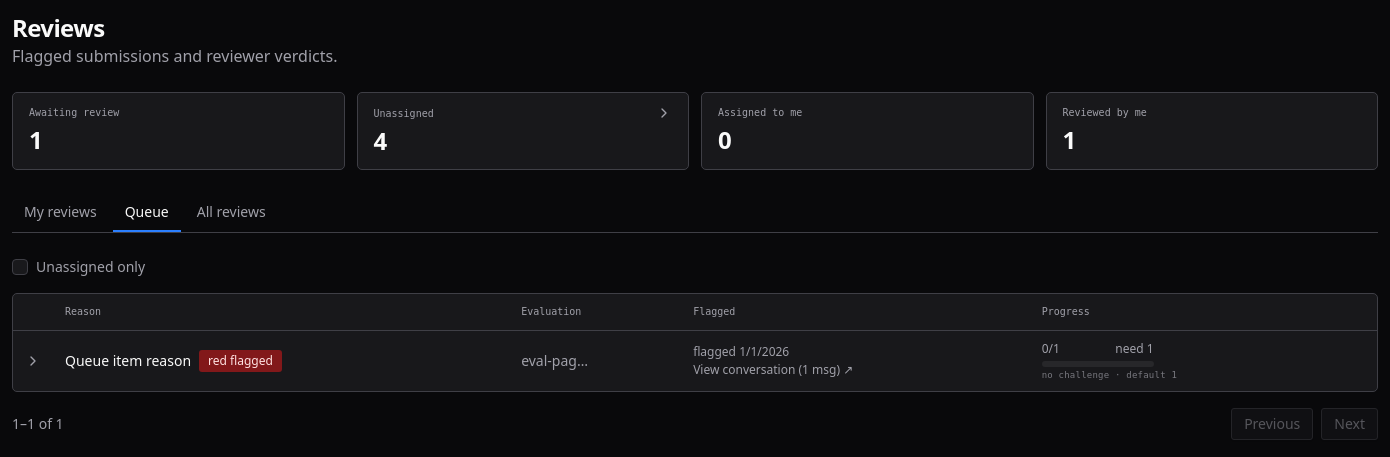
Scenario: ReviewsLayout › clicking the All reviews tab shows the reviews list
The width and height of the screenshot is (1390, 457).
Click the tab "All reviews": (231, 212) x1=197 y1=202 x2=266 y2=221
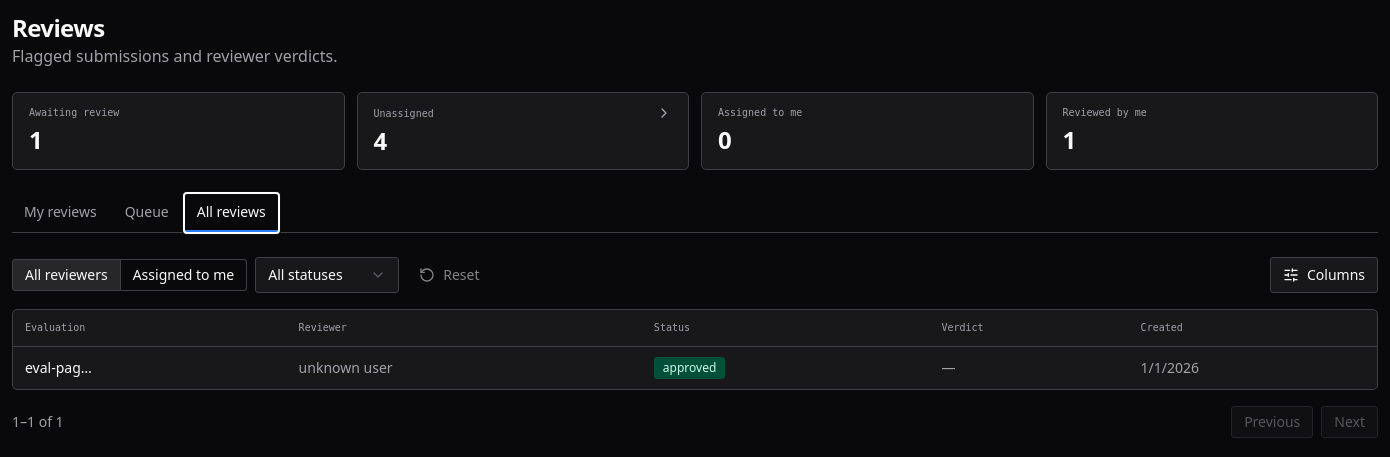
Now the column heading "Reviewer" is shown, box x1=287 y1=310 x2=642 y2=346
